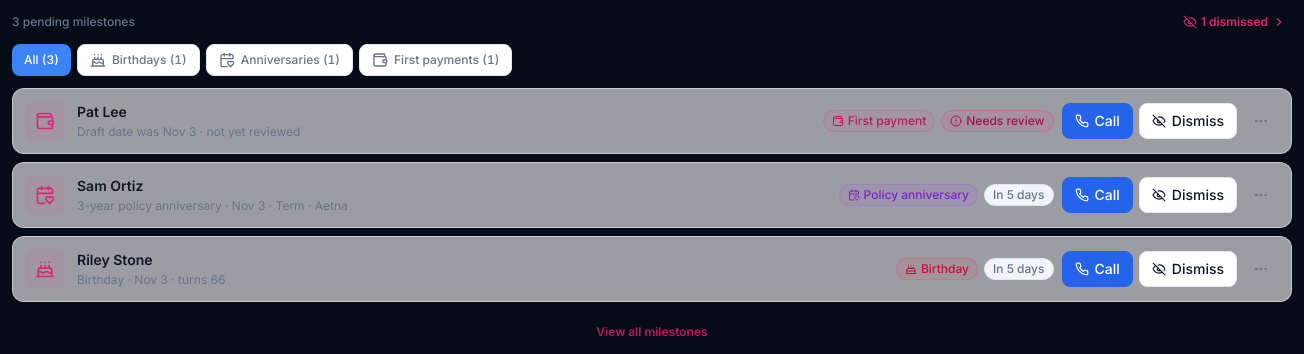
Test: ClientMilestonesWidget › shows pending milestones in three recognizable categories, never reviewed ones
Expected: the text "Pat Lee" is shown, [77, 103, 127, 120]
Expected: the picture named "Birthday" is shown, [25, 249, 65, 289]
What coordinates should you click on to do the following:
click the button "Anniversaries (1)"
I would click on:
 (279, 60)
Its box is [206, 44, 353, 76].
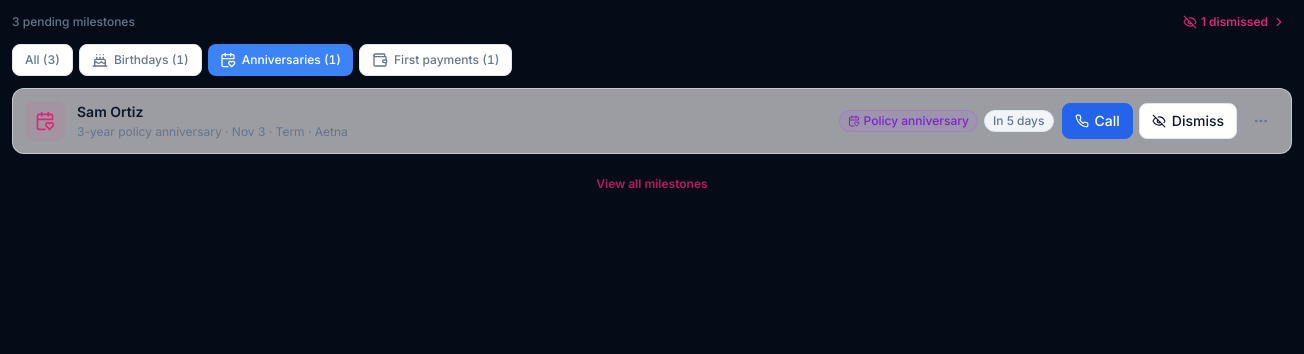
Expected: the text "Sam Ortiz" is shown, [77, 103, 143, 120]
Expected: the text "Riley Stone" is gone
